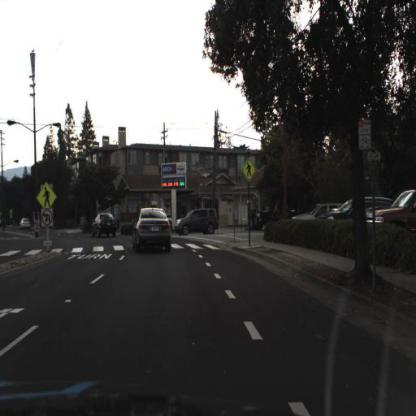car: (132, 205, 173, 257), (321, 193, 396, 221), (324, 195, 394, 222), (377, 189, 416, 235), (175, 208, 221, 241), (291, 196, 342, 224), (88, 207, 123, 246), (90, 211, 119, 242), (21, 217, 32, 230)
